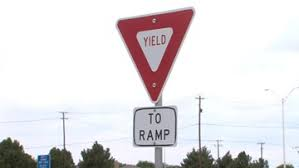yield: (113, 7, 199, 105)
